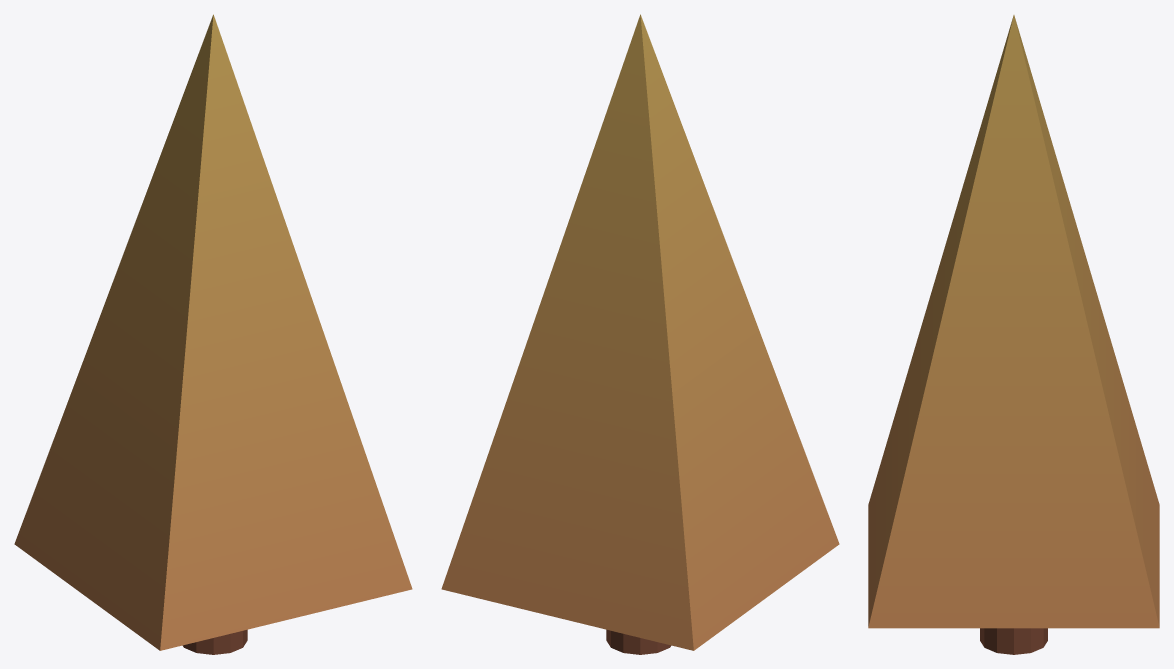
File: Tree_36_gradient_yellow_vc.fbx
The picture shows the model from 3 angles, left to right: view 1: azimuth 30°, elevation 25°; view 2: azimuth 150°, elevation 25°; view 3: azimuth 270°, elevation 25°; orthographic projection.
Parts seen in each view (by area): view 1: Tree_36_gradient_yellow_vc; view 2: Tree_36_gradient_yellow_vc; view 3: Tree_36_gradient_yellow_vc.
Boxes of the visible parts, x1=… form: Tree_36_gradient_yellow_vc: x1=14, y1=14, x2=412, y2=654; Tree_36_gradient_yellow_vc: x1=441, y1=14, x2=839, y2=654; Tree_36_gradient_yellow_vc: x1=868, y1=15, x2=1159, y2=654.
Size of the model in its own units: 69.07 by 164 by 69.07.
